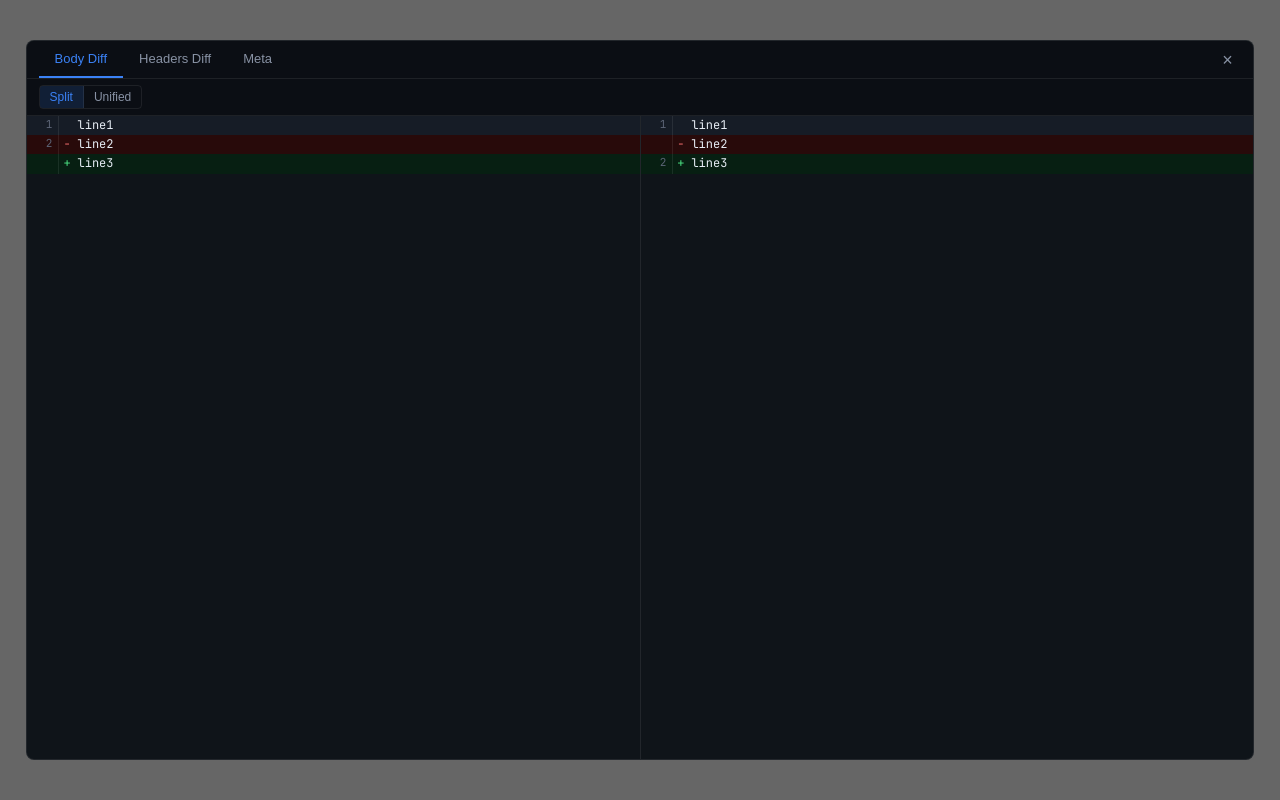
Test: DiffViewer › renders Headers Diff tab with HeadersDiffTable
Click the tab "Headers Diff": click(175, 60) [123,41,227,78]
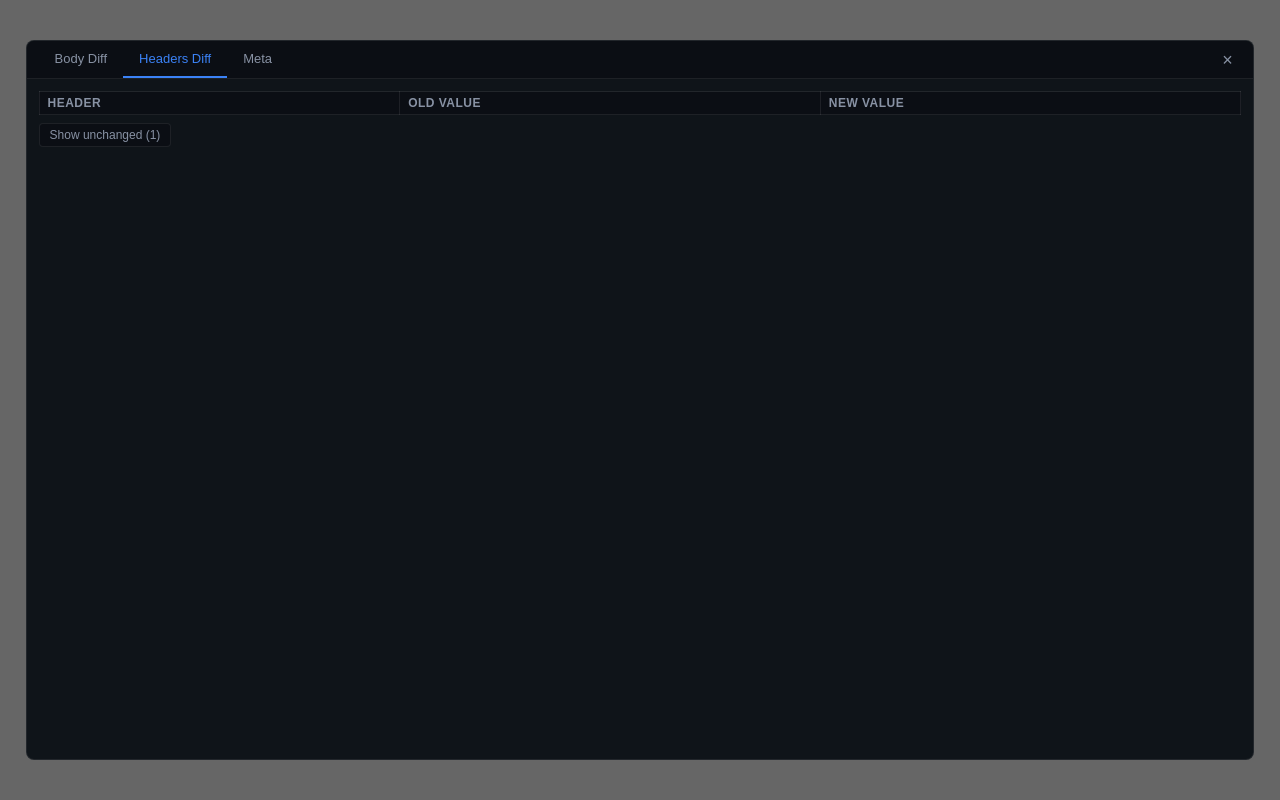
Expected: the column heading "Header" is shown, [39,92,400,114]
